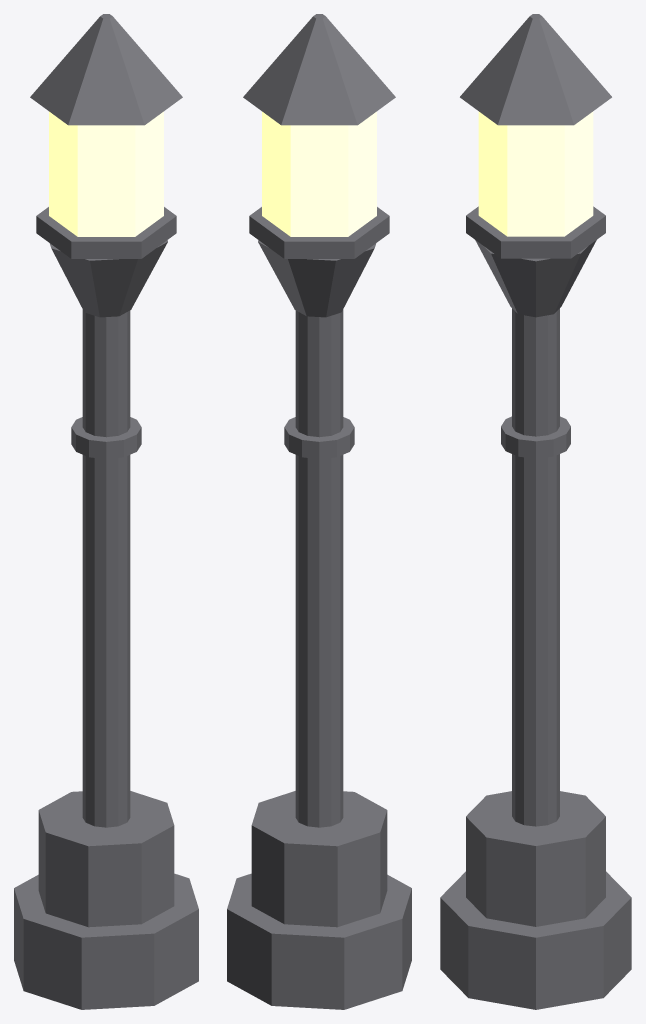
File: farola_forja.glb
3 renders of one model, left to right at view 1: azimuth 30°, elevation 25°; view 2: azimuth 150°, elevation 25°; view 3: azimuth 270°, elevation 25°, orthographic.
Visible parts, largest first — view 1: FarolaForja; view 2: FarolaForja; view 3: FarolaForja.
Part boxes in pixels (x1,y1,x2,y2): FarolaForja: [14, 14, 198, 1009]; FarolaForja: [227, 14, 411, 1009]; FarolaForja: [440, 14, 631, 1009].
Size of the model in its own units: 0.6 by 3.3 by 0.6.
